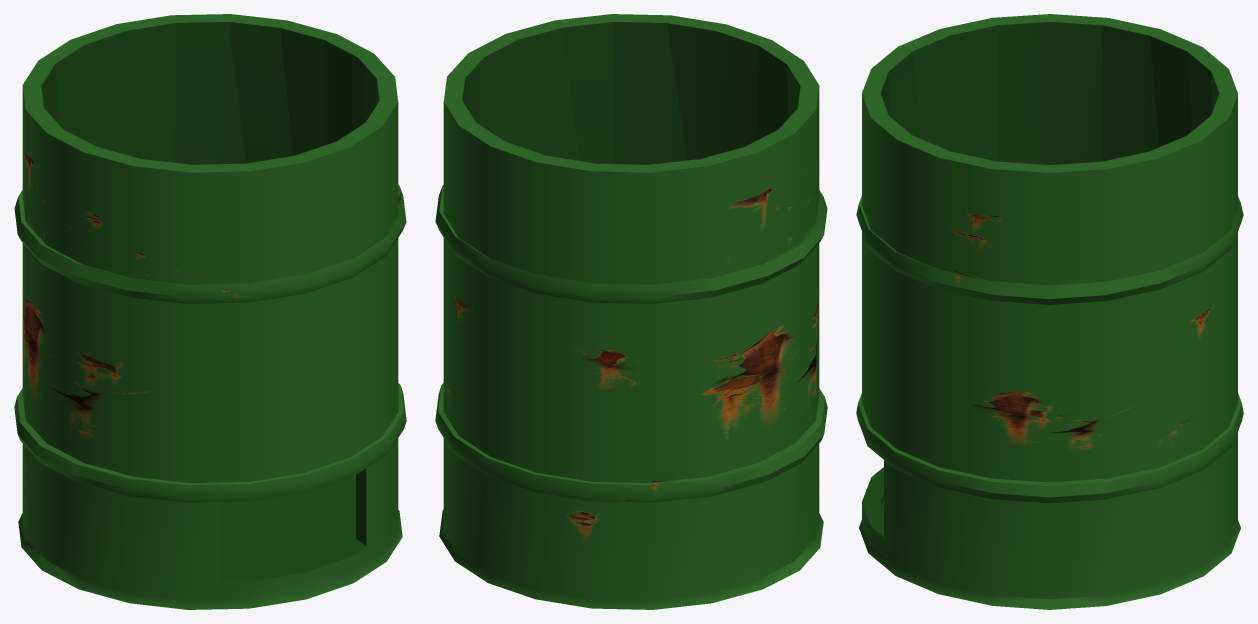
The model's file is drum_fire.fbx.
3 views of the same model, side by side, from view 1: azimuth 30°, elevation 25°; view 2: azimuth 150°, elevation 25°; view 3: azimuth 270°, elevation 25° (orthographic).
Visible parts, largest first — view 1: pCylinder5; view 2: pCylinder5; view 3: pCylinder5.
Part boxes in pixels (left/top/right/bottom): pCylinder5: left=14, top=14, right=406, bottom=609; pCylinder5: left=435, top=14, right=827, bottom=609; pCylinder5: left=856, top=14, right=1243, bottom=609.
Size of the model in its own units: 0.8482 by 1.02 by 0.824.
1 material, 1 textured.
